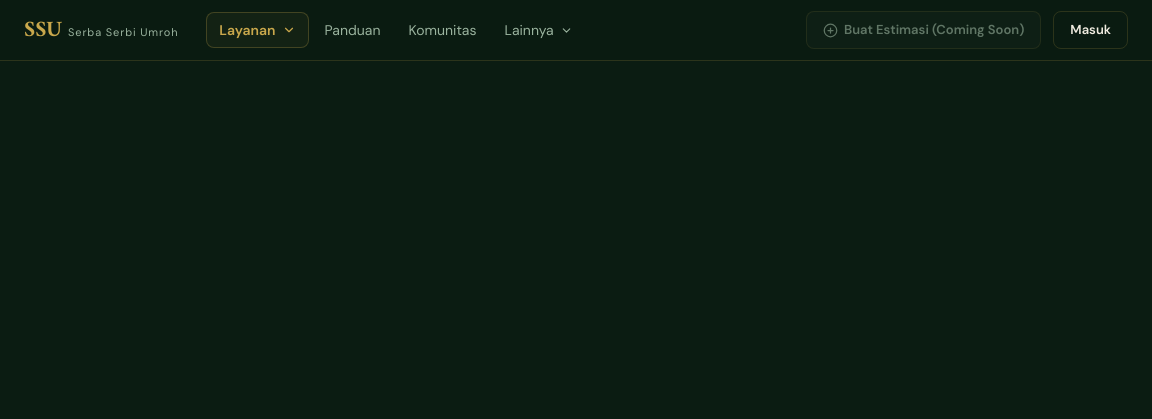
Scenario: NavBar Layanan mega menu › reveals every catalog service when opened
Click the button "Layanan".
click(258, 30)  # box [206, 12, 309, 48]
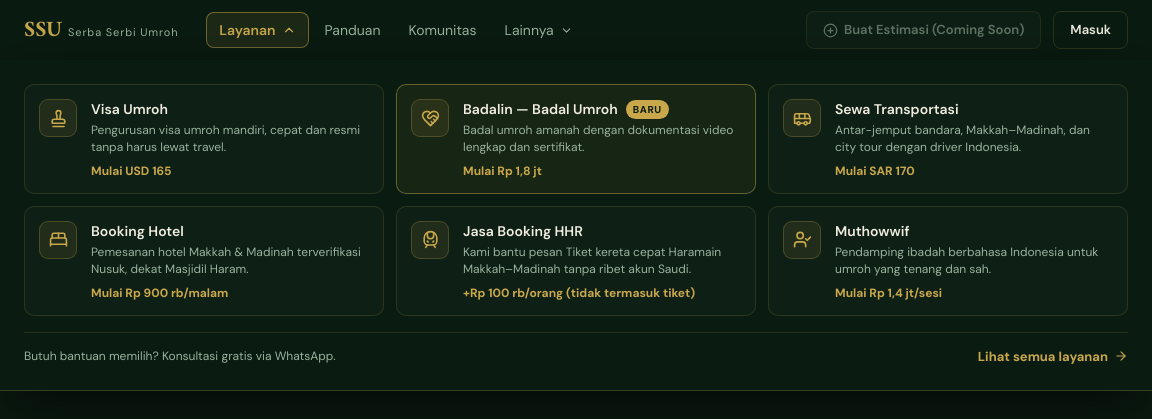
Now the text "Visa Umroh" is shown, box [91, 99, 168, 119]
Now the text "Mulai USD 165" is shown, box [91, 163, 171, 179]
Now the text "Badalin — Badal Umroh" is shown, box [463, 99, 618, 119]
